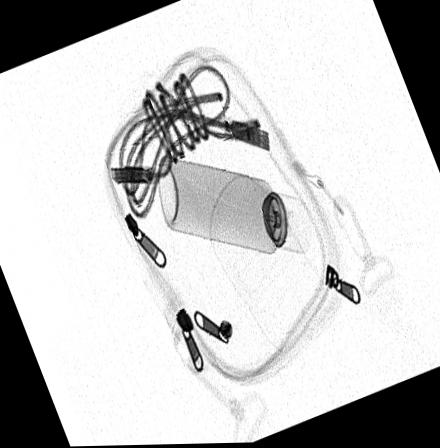Sprayer: (156, 157, 312, 256)
